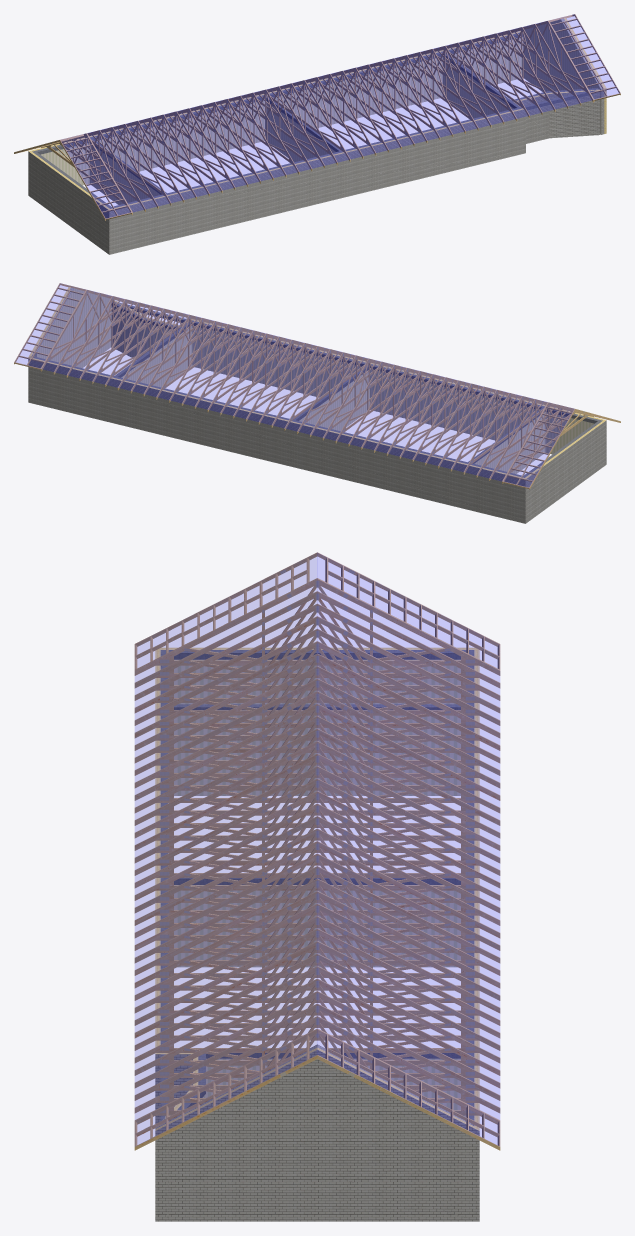
The picture shows the model from 3 angles, top to bottom: view 1: azimuth 30°, elevation 25°; view 2: azimuth 150°, elevation 25°; view 3: azimuth 270°, elevation 25°; orthographic projection. The views are drawn at different scales.
Parts seen in each view (by area): view 1: skfb_offset; view 2: skfb_offset; view 3: skfb_offset.
Part boxes in pixels (x1,y1,x2,y2): skfb_offset: [14, 14, 620, 254]; skfb_offset: [14, 283, 620, 523]; skfb_offset: [134, 552, 500, 1221].
Size of the model in its own units: 39884 by 6481 by 12260.
Materials: 10 (9 with a texture image).
